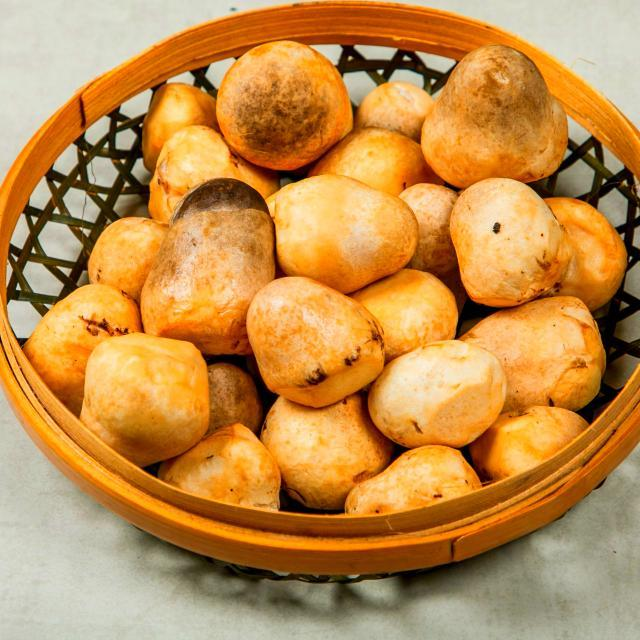Mushroom: (152, 90, 558, 462), (146, 180, 276, 352), (422, 48, 569, 182), (250, 275, 388, 407), (220, 38, 354, 171), (281, 176, 419, 281), (453, 178, 568, 302)
